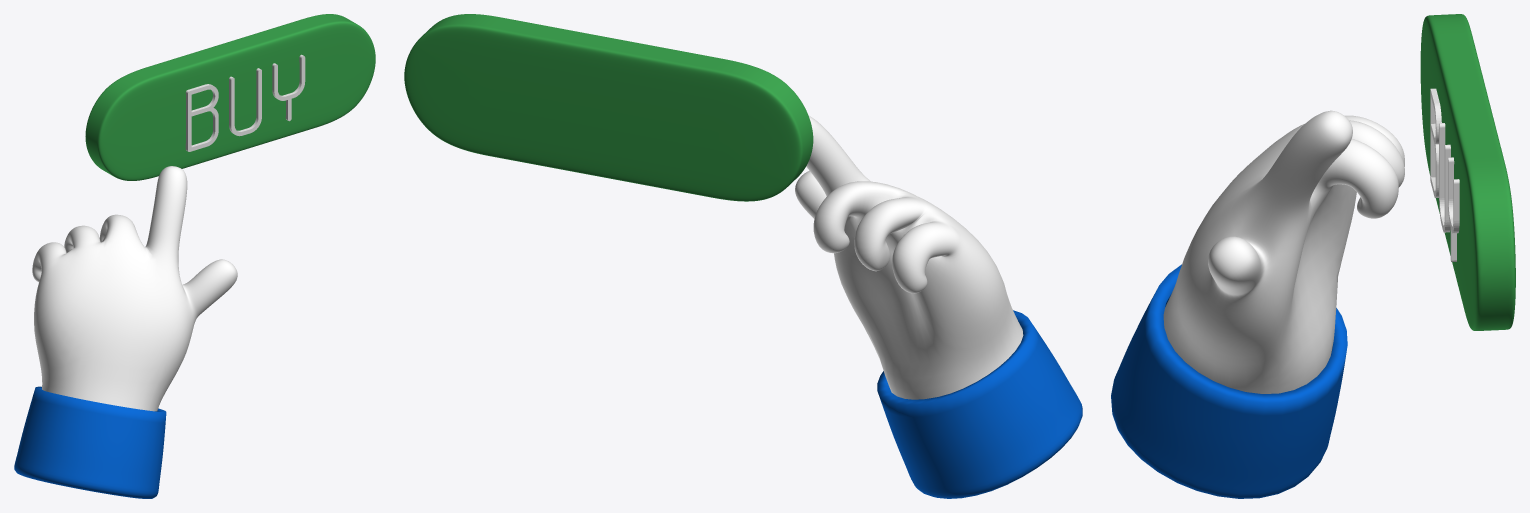
File: buy-button-3d-animated-icon-107183105754.glb
The picture shows the model from 3 angles, left to right: view 1: azimuth 30°, elevation 25°; view 2: azimuth 150°, elevation 25°; view 3: azimuth 270°, elevation 25°; orthographic projection. The views are drawn at different scales.
Visible parts, largest first — view 1: Vert.001, Cube.001, Vert.002, Curve.002, Curve.003, Curve.001; view 2: Cube.001, Vert.001, Vert.002; view 3: Vert.001, Vert.002, Cube.001, Curve.002, Curve.003, Curve.001.
Part boxes in pixels (bbox=[...]): Vert.001: bbox=[32, 166, 237, 411]; Cube.001: bbox=[85, 14, 375, 180]; Vert.002: bbox=[14, 386, 166, 498]; Curve.002: bbox=[185, 84, 218, 151]; Curve.003: bbox=[229, 68, 261, 136]; Curve.001: bbox=[272, 54, 305, 121]; Cube.001: bbox=[404, 14, 813, 201]; Vert.001: bbox=[795, 115, 1023, 399]; Vert.002: bbox=[877, 310, 1082, 498]; Vert.001: bbox=[1163, 110, 1404, 393]; Vert.002: bbox=[1111, 264, 1347, 498]; Cube.001: bbox=[1420, 14, 1515, 330]; Curve.002: bbox=[1430, 88, 1441, 197]; Curve.003: bbox=[1439, 123, 1450, 232]; Curve.001: bbox=[1448, 157, 1459, 261].
Bounding box in the file's own units: 2.17 × 1.67 × 1.15.
